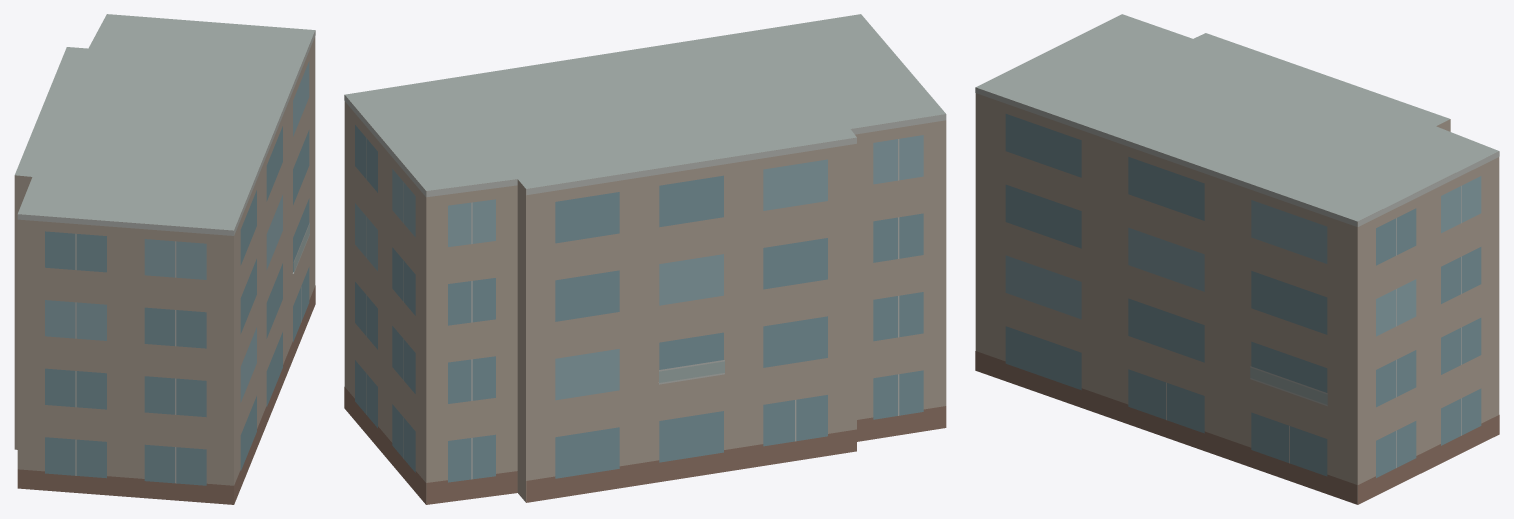
Rendered from survey-upis-33025580.glb.
The picture shows the model from 3 angles, left to right: view 1: azimuth 30°, elevation 25°; view 2: azimuth 150°, elevation 25°; view 3: azimuth 270°, elevation 25°; orthographic projection. The views are drawn at different scales.
Visible parts, largest first — view 1: survey-upis-33025580.tmp; view 2: survey-upis-33025580.tmp; view 3: survey-upis-33025580.tmp.
Boxes of the visible parts, box(x1,y1,x2,y2) form: survey-upis-33025580.tmp: box(14, 14, 315, 504); survey-upis-33025580.tmp: box(344, 14, 946, 504); survey-upis-33025580.tmp: box(975, 14, 1499, 504).
Size of the model in its own units: 19.34 by 12.3 by 20.62.
